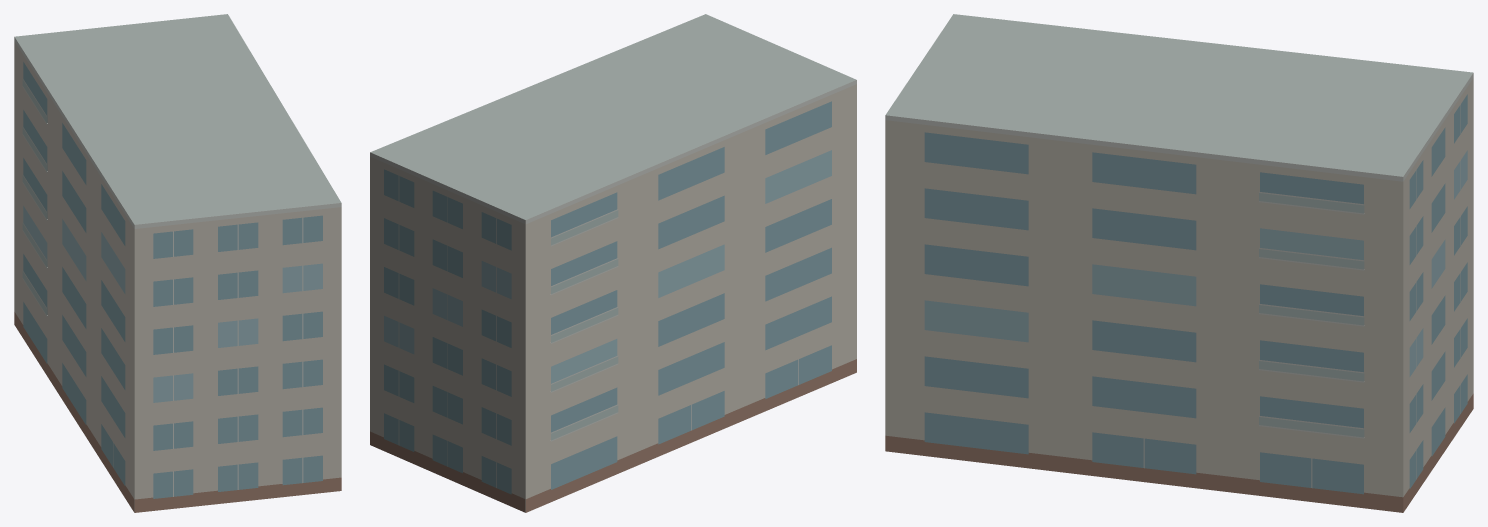
The model's file is survey-upis-32875691.glb.
3 views of the same model, side by side, from view 1: azimuth 30°, elevation 25°; view 2: azimuth 150°, elevation 25°; view 3: azimuth 270°, elevation 25° (orthographic). The views are drawn at different scales.
Parts seen in each view (by area): view 1: survey-upis-32875691.tmp; view 2: survey-upis-32875691.tmp; view 3: survey-upis-32875691.tmp.
Boxes of the visible parts, x1,y1,x2,y2 form: survey-upis-32875691.tmp: (14, 14, 341, 512); survey-upis-32875691.tmp: (370, 14, 856, 512); survey-upis-32875691.tmp: (885, 14, 1473, 512).
Size of the model in its own units: 17.58 by 16.9 by 26.83.
